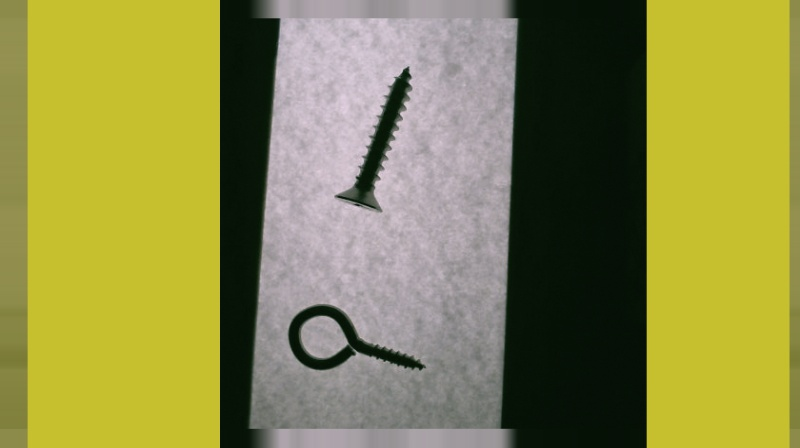O001: (285, 300, 431, 384)
S001: (332, 61, 414, 214)
